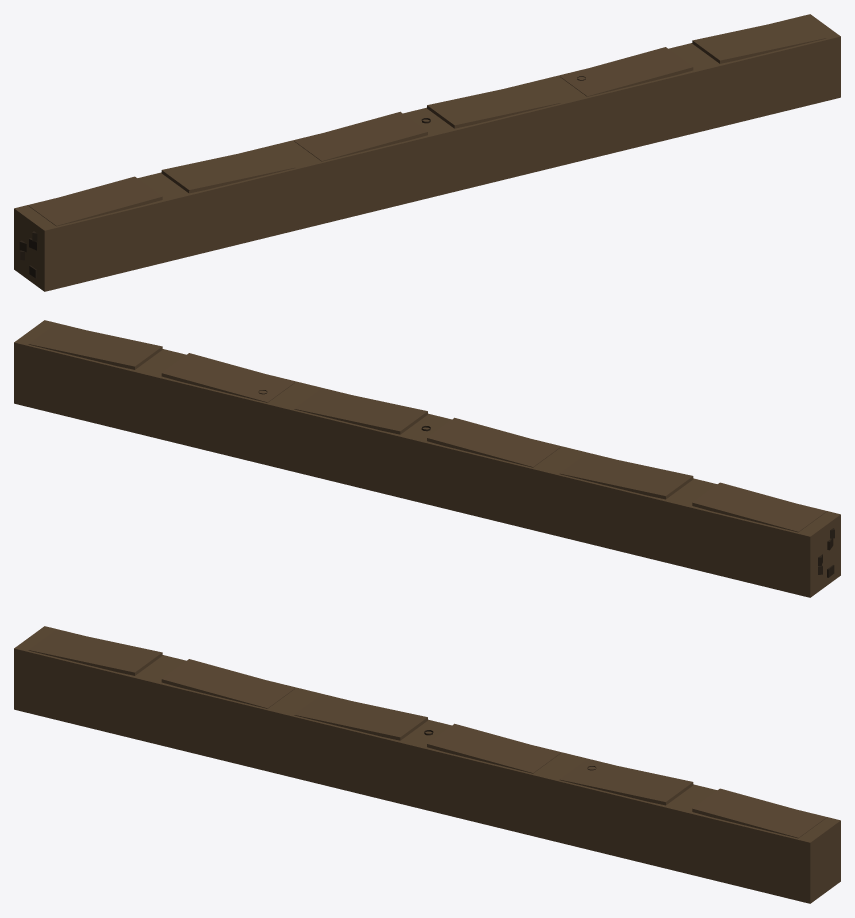
The model's file is lake-balka-shallows-0.glb.
The picture shows the model from 3 angles, top to bottom: view 1: azimuth 30°, elevation 25°; view 2: azimuth 150°, elevation 25°; view 3: azimuth 330°, elevation 25°; orthographic projection.
Parts seen in each view (by area): view 1: lake-balka-shallows-0; view 2: lake-balka-shallows-0; view 3: lake-balka-shallows-0.
Boxes of the visible parts, x1,y1,x2,y2 form: lake-balka-shallows-0: (14,14,840,291); lake-balka-shallows-0: (14,320,840,597); lake-balka-shallows-0: (14,626,840,903).
Bounding box in the file's own units: 3.01 × 0.234 × 0.2.
